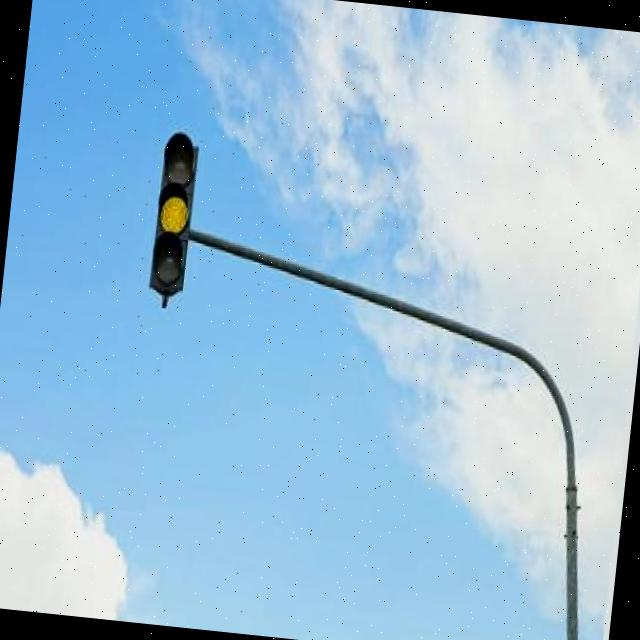yellow_light: (151, 135, 198, 290)
